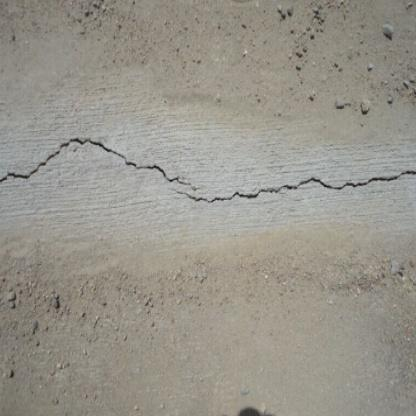Cracks: (0, 134, 416, 209)
